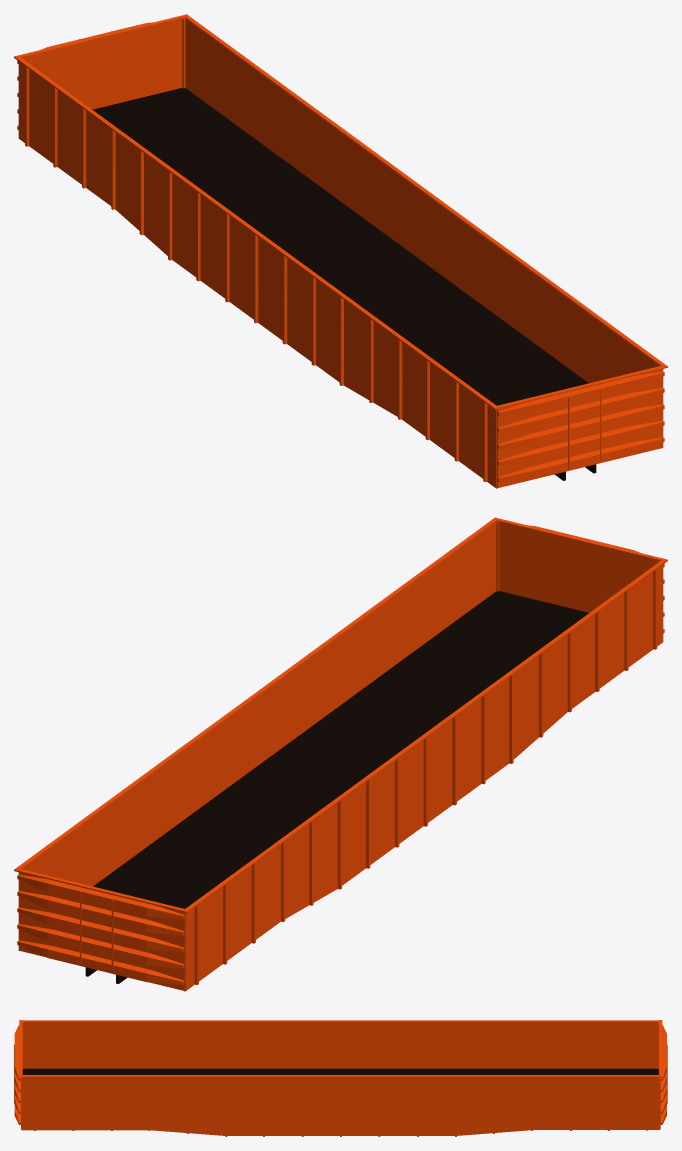
Rendered from gondola_b.fbx.
3 renders of one model, top to bottom at view 1: azimuth 30°, elevation 25°; view 2: azimuth 150°, elevation 25°; view 3: azimuth 270°, elevation 25°, orthographic. The views are drawn at different scales.
Visible parts, largest first — view 1: gondola_b; view 2: gondola_b; view 3: gondola_b.
Part boxes in pixels (x1,y1,x2,y2): gondola_b: (14,14,667,488); gondola_b: (14,517,667,991); gondola_b: (14,1020,667,1136).
Size of the model in its own units: 318 by 165 by 1561.
